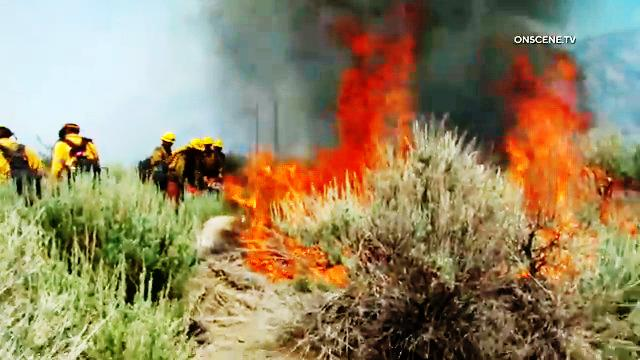fire: (227, 11, 414, 284), (493, 46, 603, 287)
smoke: (419, 6, 494, 140)
